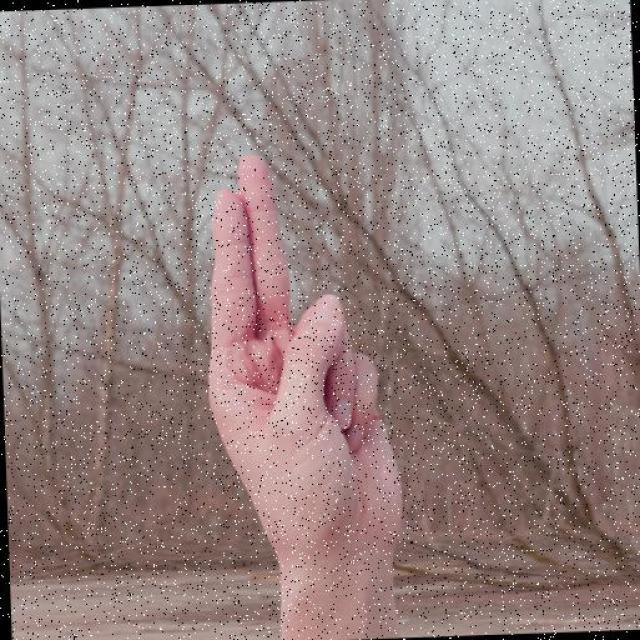U: (196, 142, 418, 614)
